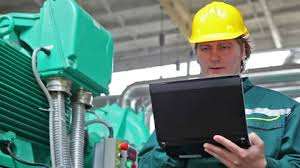Person_wearing_helmet: (187, 0, 251, 56)
